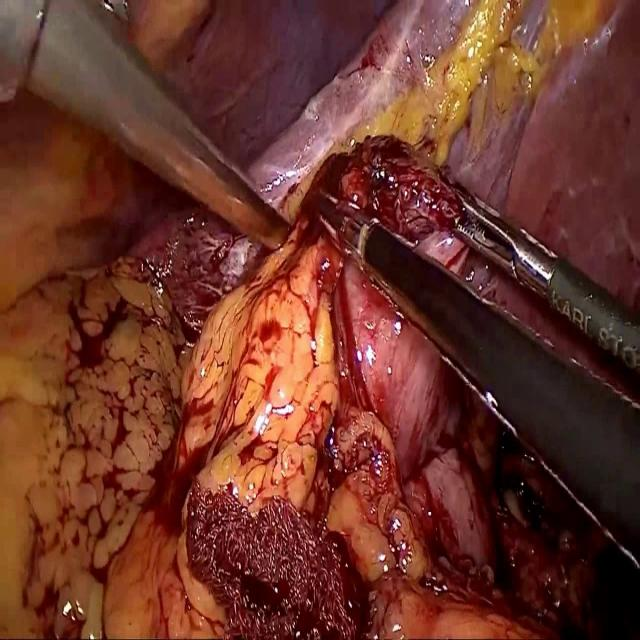surgical-area: (0, 0, 640, 639)
surgical-tool: (316, 184, 640, 572), (448, 185, 640, 391)
